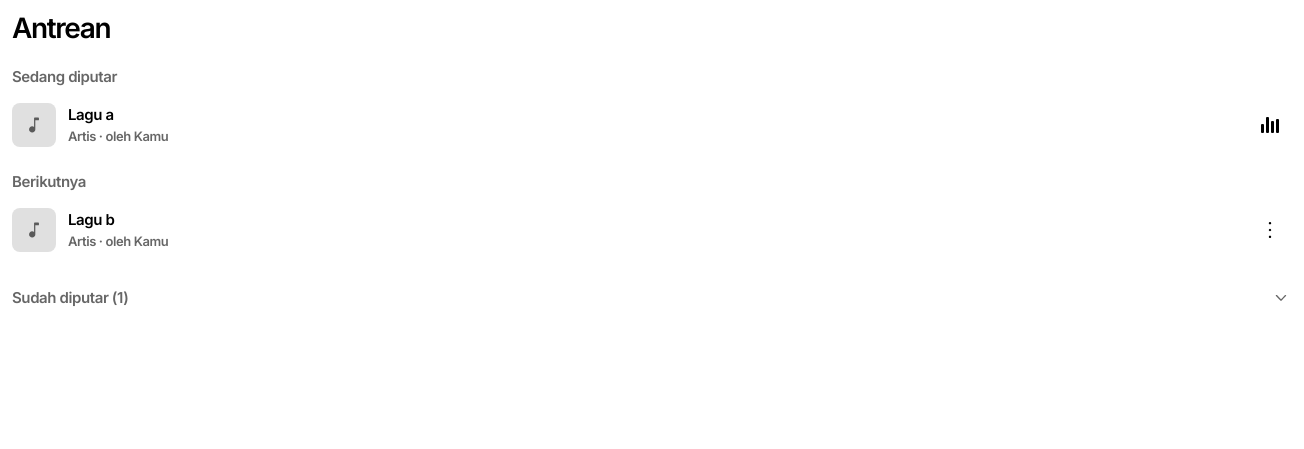
Test: QueueList edge cases › full variant: current row has equalizer bars and no menu; played rows get play and remove but no move
This screenshot has width=1304, height=449.
expect the heading "Sedang diputar" is shown: met, box x1=12 y1=67 x2=117 y2=86
Click the button "Sudah diputar (1)" at {"x": 70, "y": 298}, box x1=12 y1=276 x2=1292 y2=320
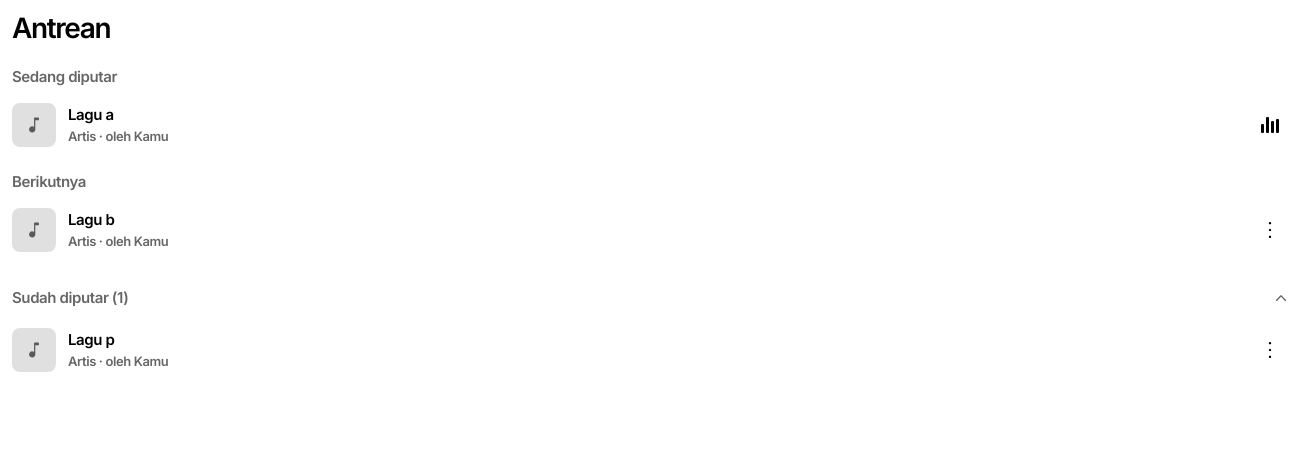
Click the button named "Aksi: Lagu p" at {"x": 1270, "y": 350}, box x1=1248 y1=328 x2=1292 y2=372
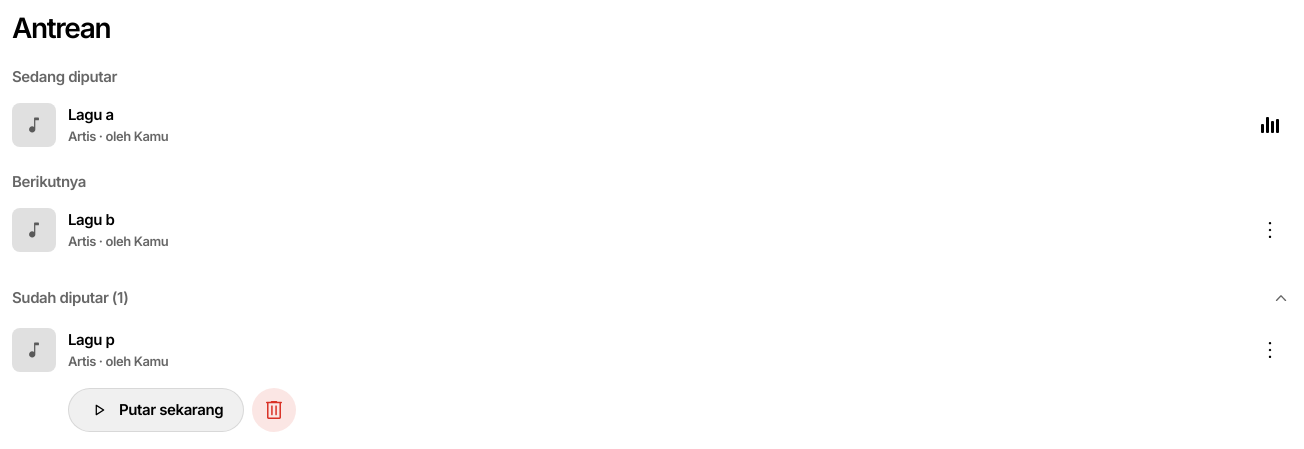
expect the button with aria-label "Putar sekarang: Lagu p" is shown: met, box x1=68 y1=388 x2=244 y2=432
expect the button named "Hapus: Lagu p" is shown: met, box x1=252 y1=388 x2=296 y2=432
